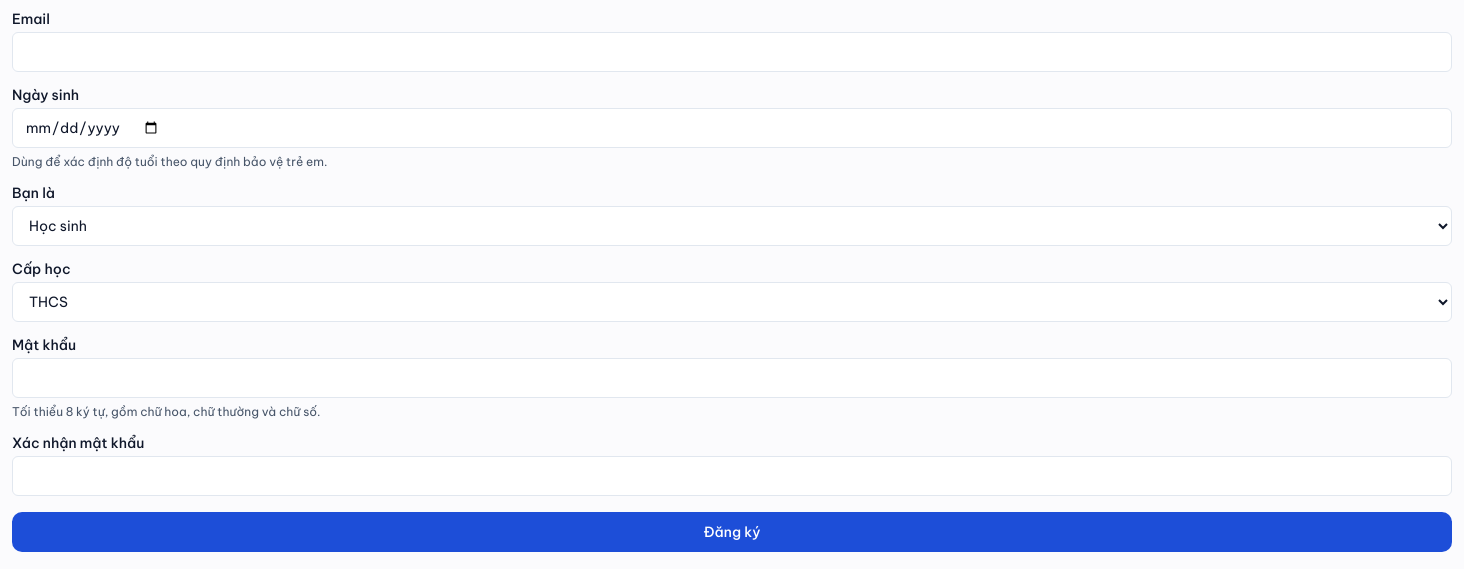
Test case: RegisterForm › on success shows the check-email notice with no session and no navigation (N-3)
The width and height of the screenshot is (1464, 569).
Type "child@b.vn" into the field labelled "Email" at (732, 52), box x1=12 y1=32 x2=1452 y2=72
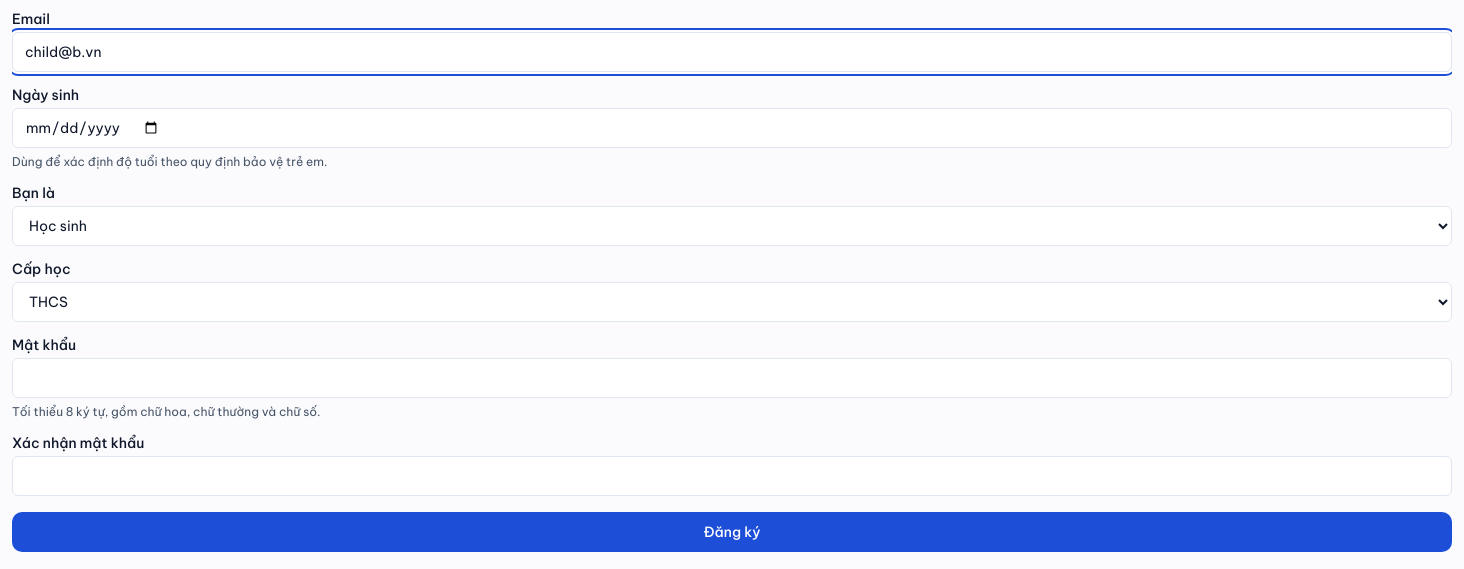
Type "1995-01-01" into the date field labelled "Ngày sinh" at (732, 128), box x1=12 y1=108 x2=1452 y2=148
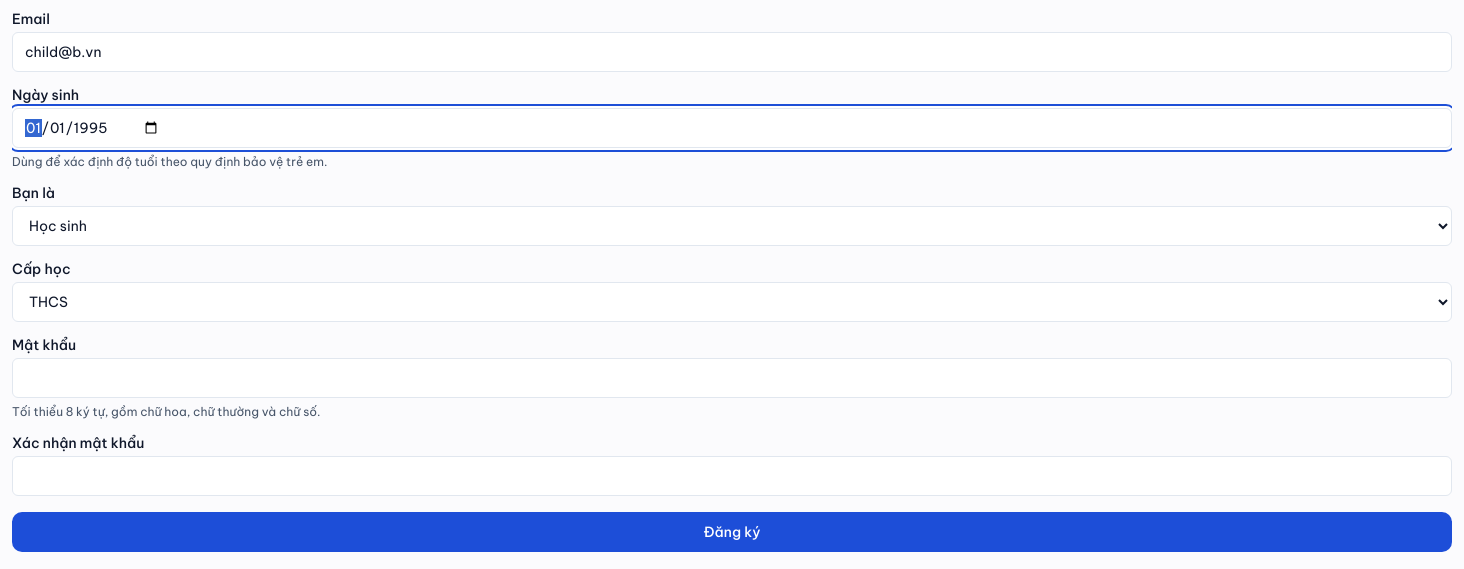
Type "Abcdef12" into the password field labelled "Mật khẩu" at (732, 378), box x1=12 y1=358 x2=1452 y2=398
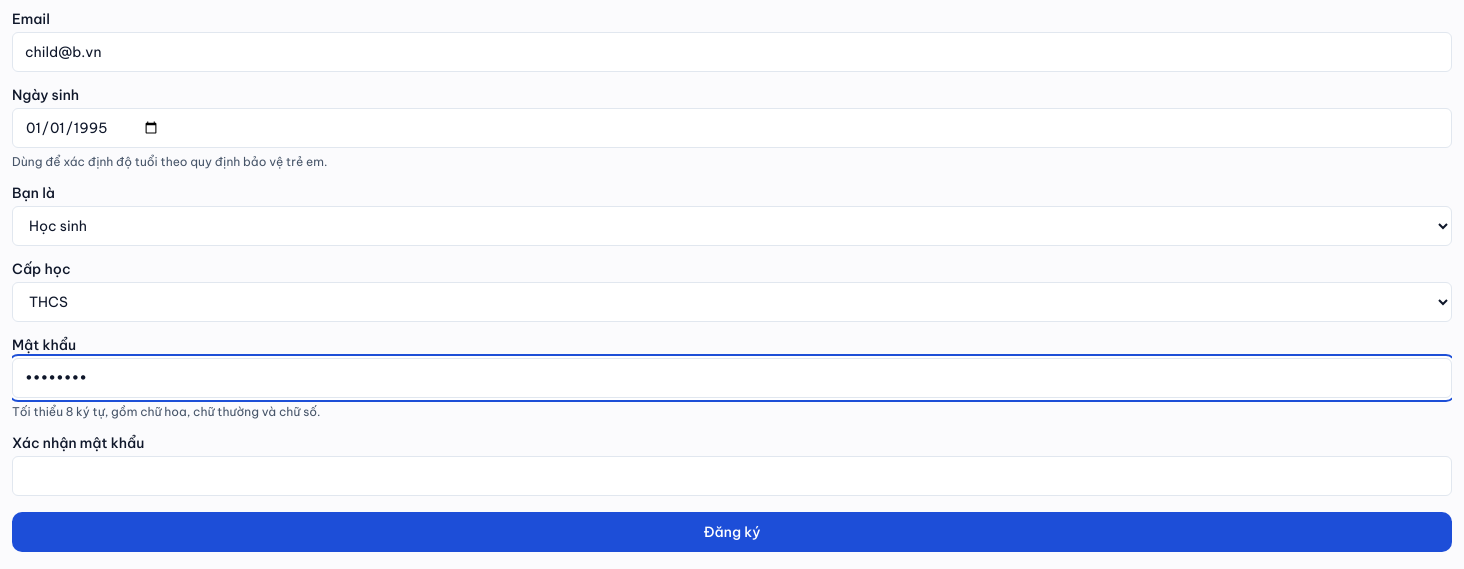
Type "Abcdef12" into the password field labelled "Xác nhận mật khẩu" at (732, 476), box x1=12 y1=456 x2=1452 y2=496
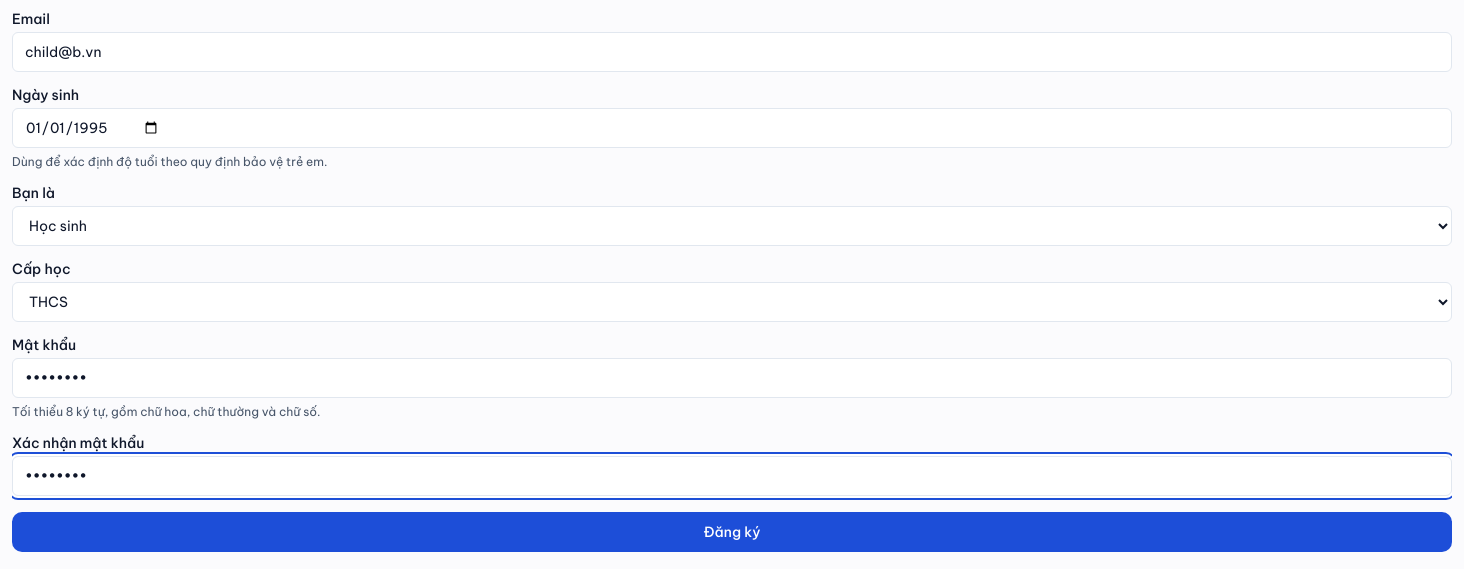
Click the button "Đăng ký" at (732, 532), box x1=12 y1=512 x2=1452 y2=552
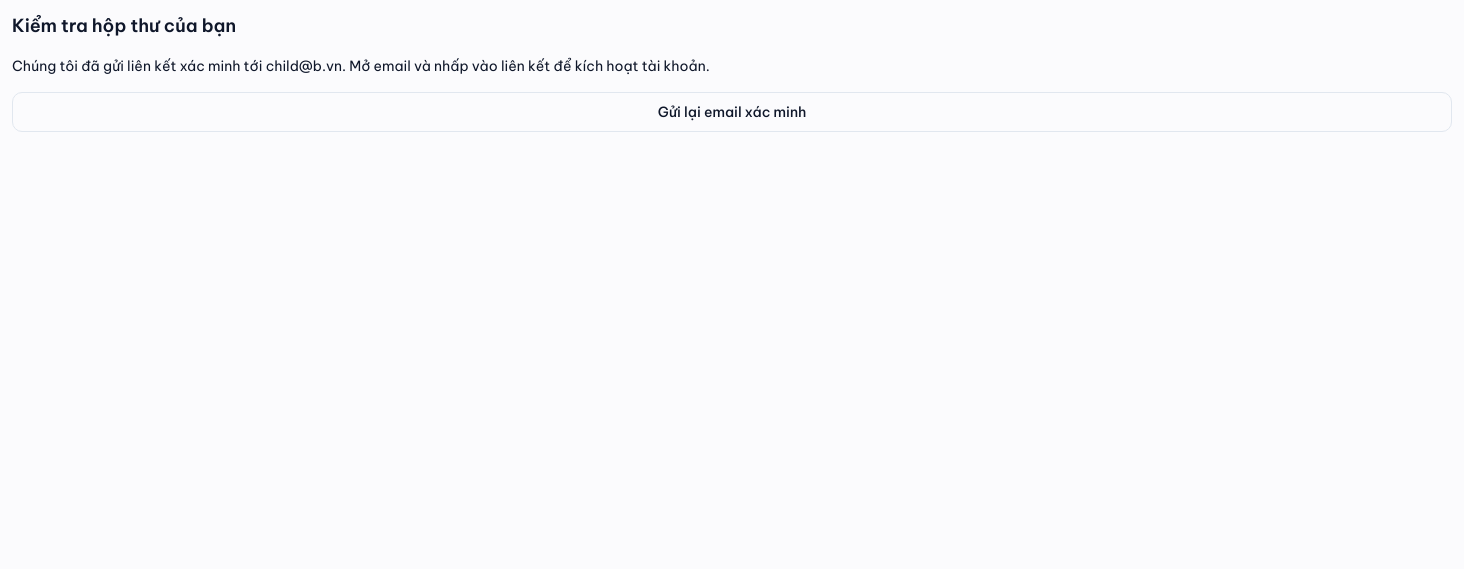
Expected: the heading "Kiểm tra hộp thư của bạn" is shown, x1=12 y1=14 x2=236 y2=37
